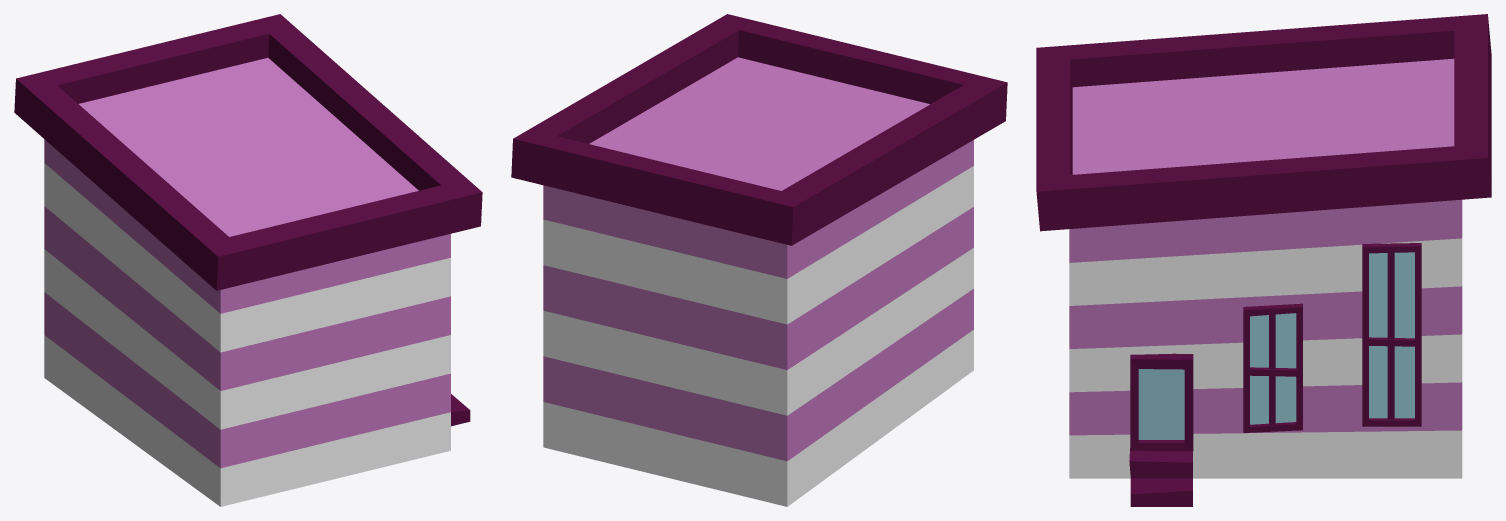
File: Purple_house_big_2.fbx
The picture shows the model from 3 angles, left to right: view 1: azimuth 30°, elevation 25°; view 2: azimuth 150°, elevation 25°; view 3: azimuth 270°, elevation 25°; orthographic projection. The views are drawn at different scales.
Visible parts, largest first — view 1: Purple house big 2; view 2: Purple house big 2; view 3: Purple house big 2.
Part boxes in pixels (bbox=[...]): Purple house big 2: bbox=[14, 14, 482, 506]; Purple house big 2: bbox=[511, 14, 1007, 506]; Purple house big 2: bbox=[1036, 14, 1491, 506].
Bounding box in the file's own units: 1528 × 1476 × 1831.
